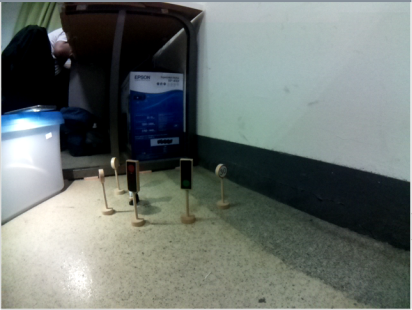Green: (178, 157, 196, 193)
Red: (124, 158, 142, 197)
Speed30: (214, 160, 230, 179)
